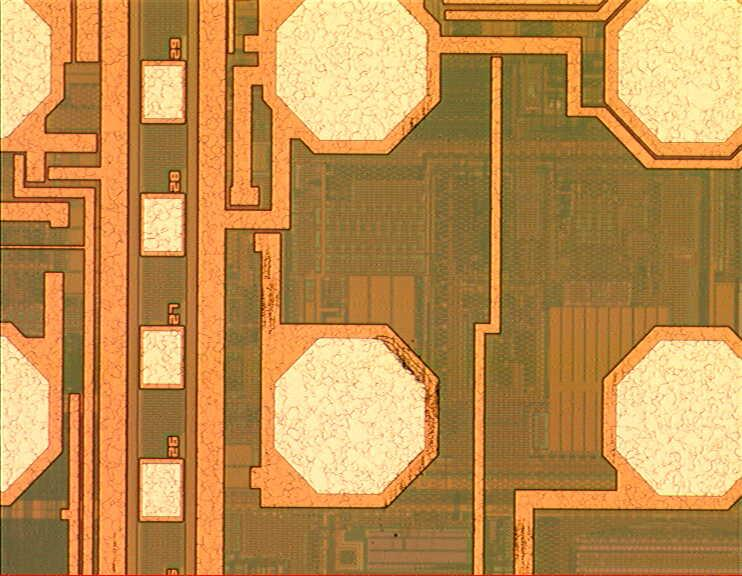SCRATCH: (251, 56, 540, 576)
